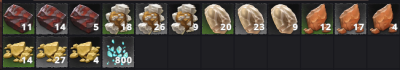cinnabar mineral: (3, 3, 34, 33), (69, 4, 100, 34), (37, 4, 67, 33)
dolomite mineral: (167, 3, 200, 33), (103, 3, 133, 34), (136, 3, 165, 33)
ethereal dust: (105, 38, 133, 67)
halite mineral: (269, 3, 300, 34), (236, 2, 266, 33), (202, 3, 232, 33)
nitre mineral: (367, 3, 399, 33), (303, 3, 333, 34), (335, 3, 365, 33)
sulphur mineral: (3, 36, 35, 66), (70, 39, 100, 68), (37, 38, 67, 66)
